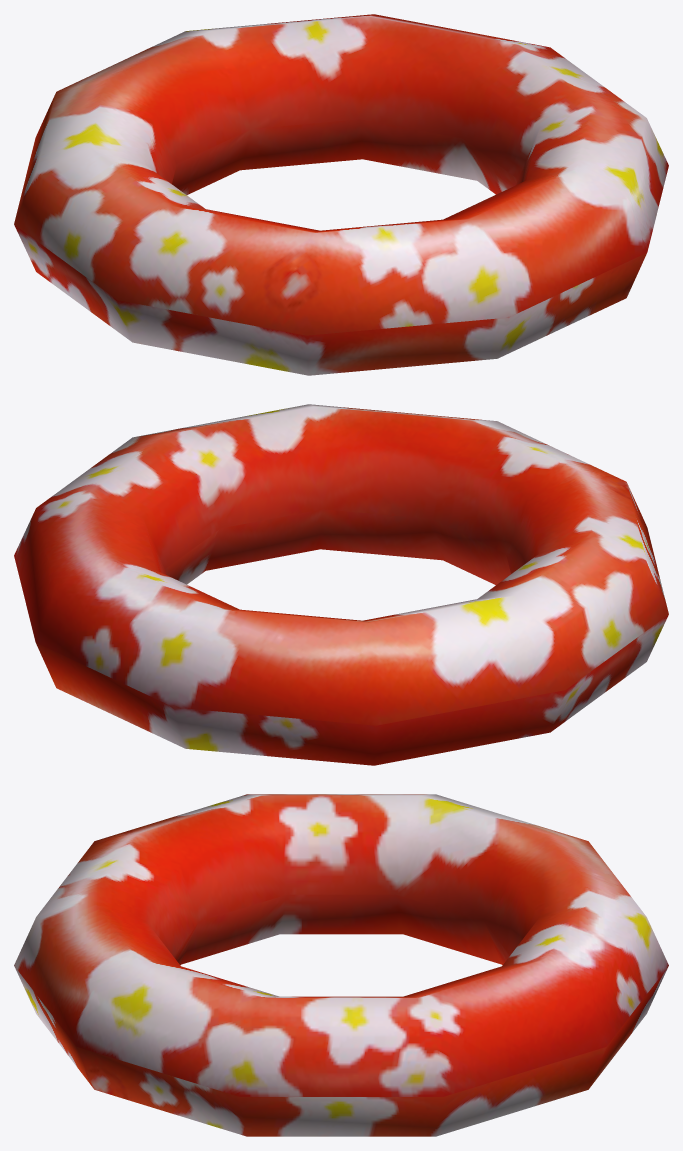
File: furni_0201005.FBX
The picture shows the model from 3 angles, top to bottom: view 1: azimuth 30°, elevation 25°; view 2: azimuth 150°, elevation 25°; view 3: azimuth 270°, elevation 25°; orthographic projection. The views are drawn at different scales.
Visible parts, largest first — view 1: furni_0201005; view 2: furni_0201005; view 3: furni_0201005.
Part boxes in pixels (x1,y1,x2,y2): furni_0201005: [14, 14, 668, 375]; furni_0201005: [14, 404, 668, 765]; furni_0201005: [14, 794, 668, 1136].
Size of the model in its own units: 103 by 24.94 by 108.
Materials: 1 (1 with a texture image).
